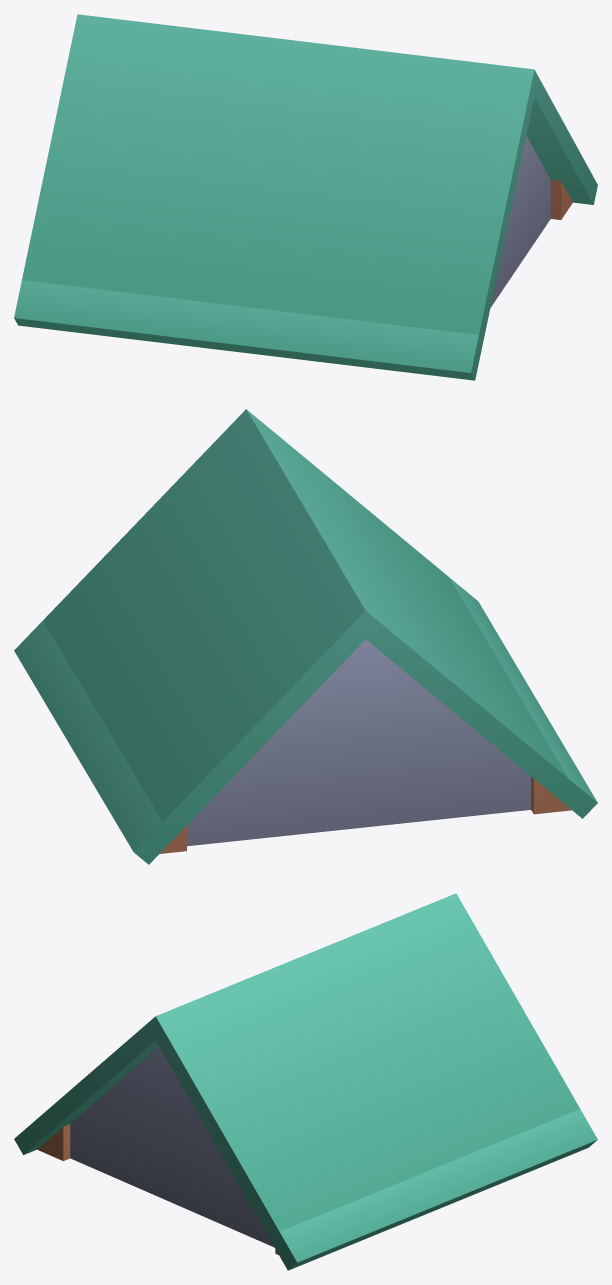
The model's file is roof-gable_lev1.glb.
3 views of the same model, one above another, from view 1: azimuth 30°, elevation 25°; view 2: azimuth 150°, elevation 25°; view 3: azimuth 270°, elevation 25° (orthographic). The views are drawn at different scales.
Visible parts, largest first — view 1: roof-gable_lev1; view 2: roof-gable_lev1; view 3: roof-gable_lev1.
Part boxes in pixels (<box>): roof-gable_lev1: <box>14,14,597,380</box>; roof-gable_lev1: <box>14,409,597,864</box>; roof-gable_lev1: <box>14,893,597,1270</box>.
Bounding box in the file's own units: 27.21 × 10.12 × 27.22.
1 material, 1 textured.
